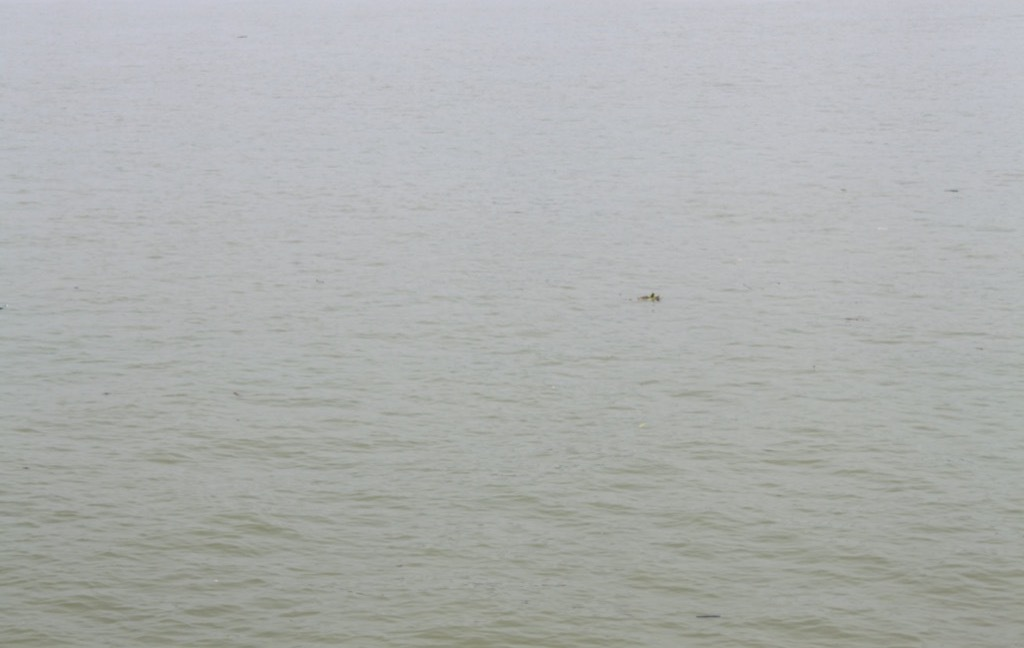organic: (615, 285, 676, 313), (688, 605, 727, 627), (1, 295, 16, 315), (17, 460, 33, 475)
plastic: (874, 221, 893, 235)
